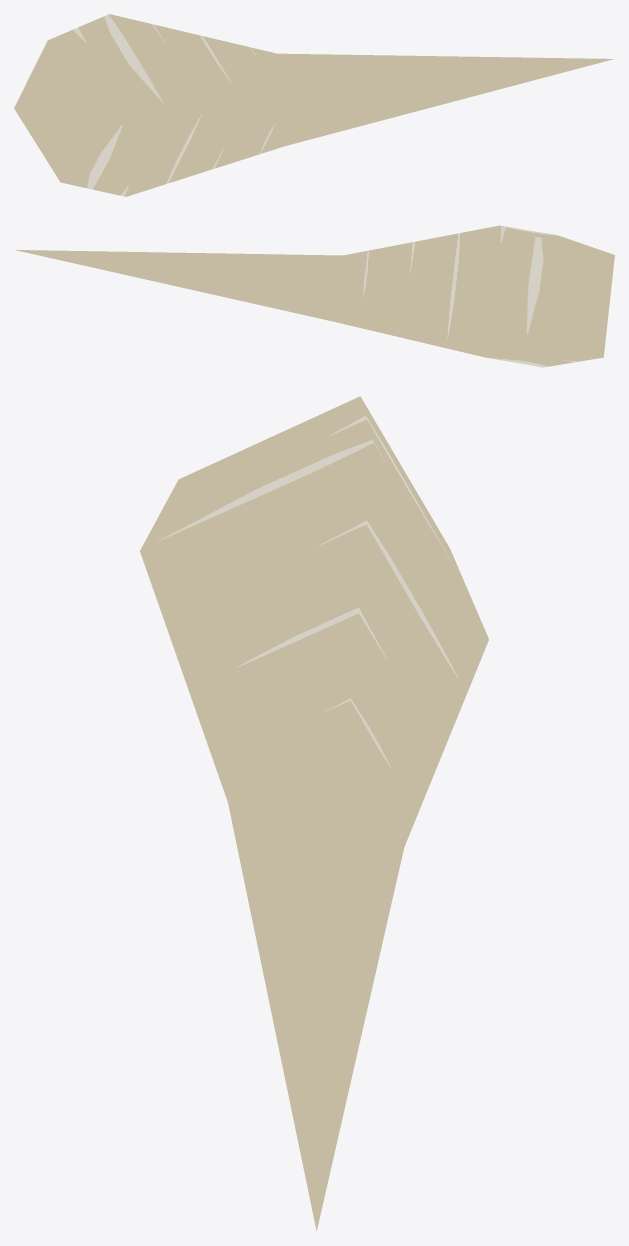
File: PT_Parsnip_02.fbx
The picture shows the model from 3 angles, top to bottom: view 1: azimuth 30°, elevation 25°; view 2: azimuth 150°, elevation 25°; view 3: azimuth 270°, elevation 25°; orthographic projection. The views are drawn at different scales.
Parts seen in each view (by area): view 1: PT_Parsnip_02_LOD0; view 2: PT_Parsnip_02_LOD0; view 3: PT_Parsnip_02_LOD0.
Part boxes in pixels (x1,y1,x2,y2): PT_Parsnip_02_LOD0: (14, 14, 613, 196); PT_Parsnip_02_LOD0: (15, 225, 614, 367); PT_Parsnip_02_LOD0: (140, 396, 488, 1230).
Size of what is drawn, in the model's own units: 42.19 by 10.95 by 10.98.
